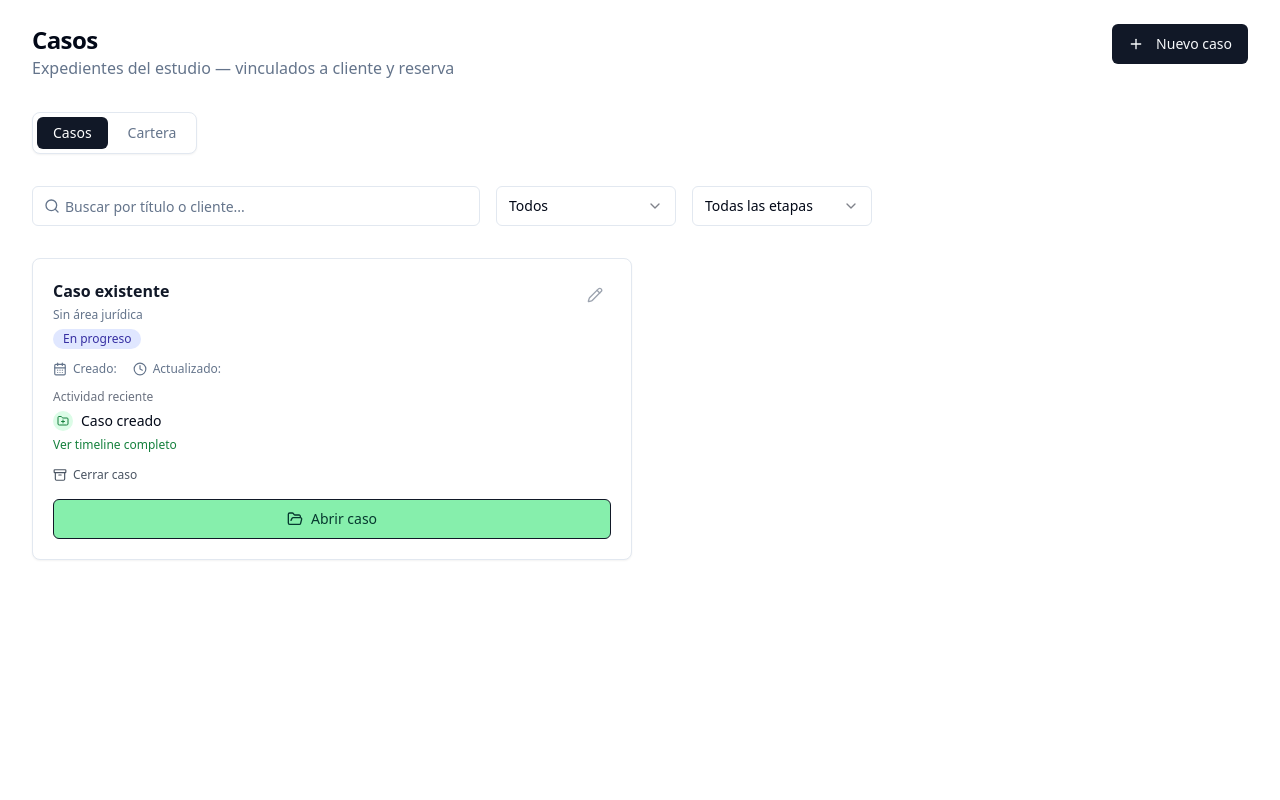
Test case: 4.43C CasesPage wired tree (production regression) › C. con casos + permitido: CTA superior abre formulario
Click the button "Nuevo caso" at (1180, 44), box [1112, 24, 1248, 64]
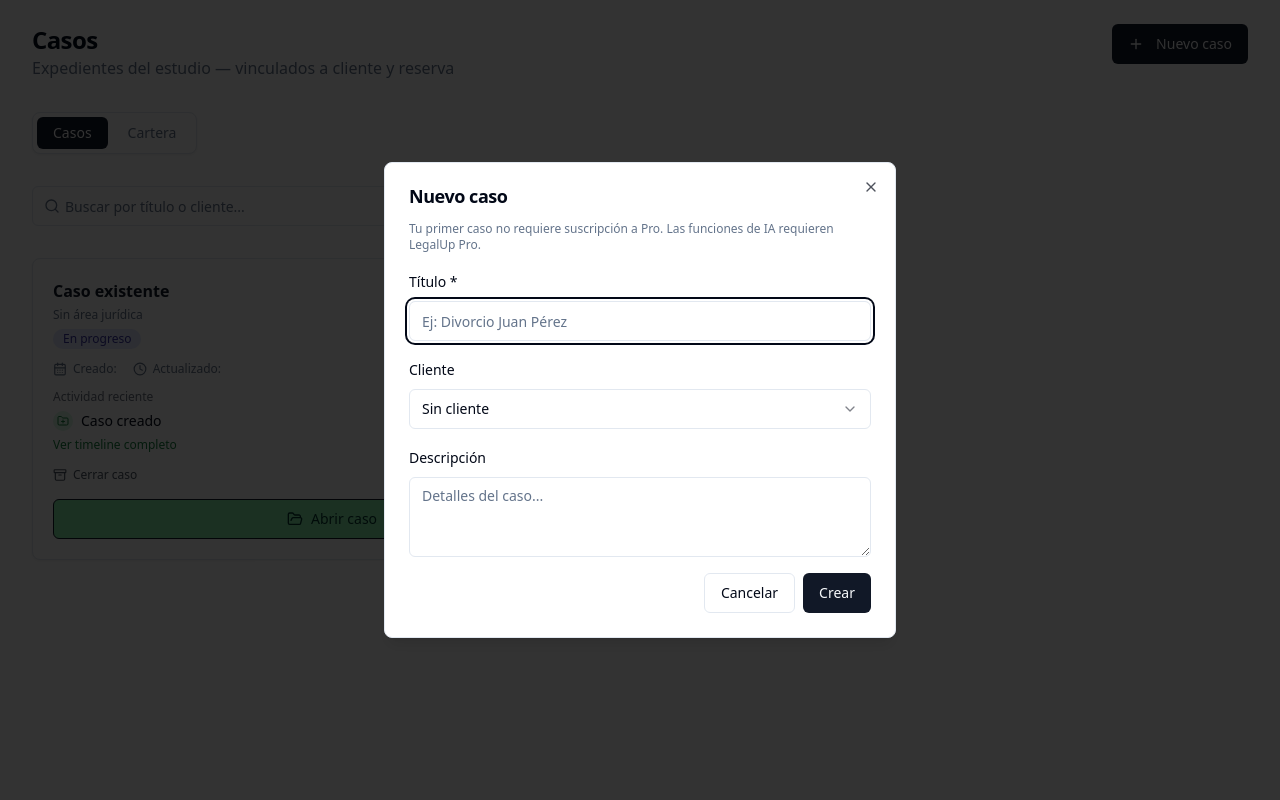
Now the field with placeholder "Ej: Divorcio Juan Pérez" is shown, box [409, 301, 871, 341]
